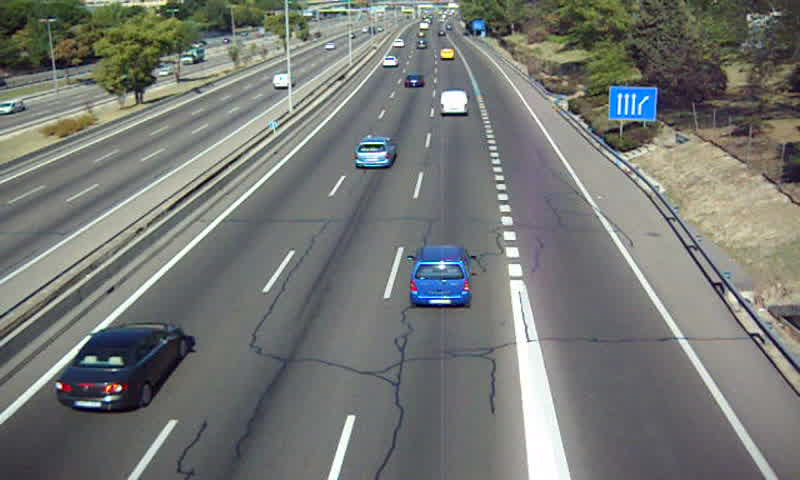car: (54, 322, 192, 416), (408, 246, 470, 306), (354, 136, 396, 168), (404, 74, 424, 87), (380, 56, 398, 70)
van: (440, 90, 468, 114)
